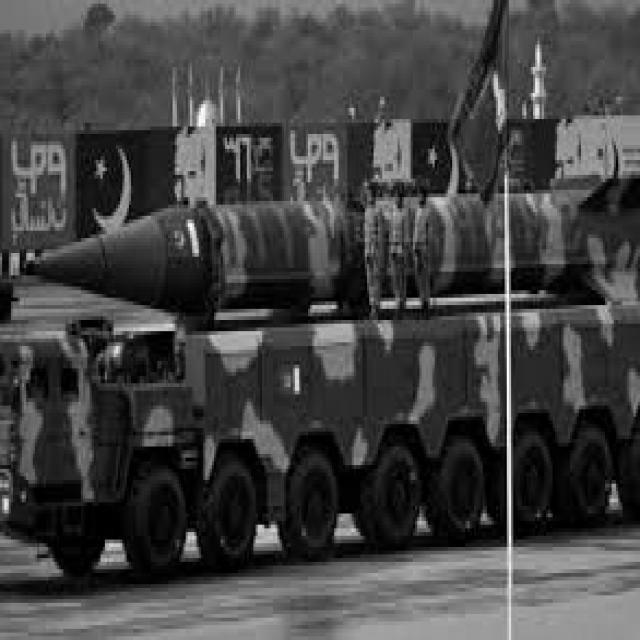Missile: (18, 186, 590, 310)
